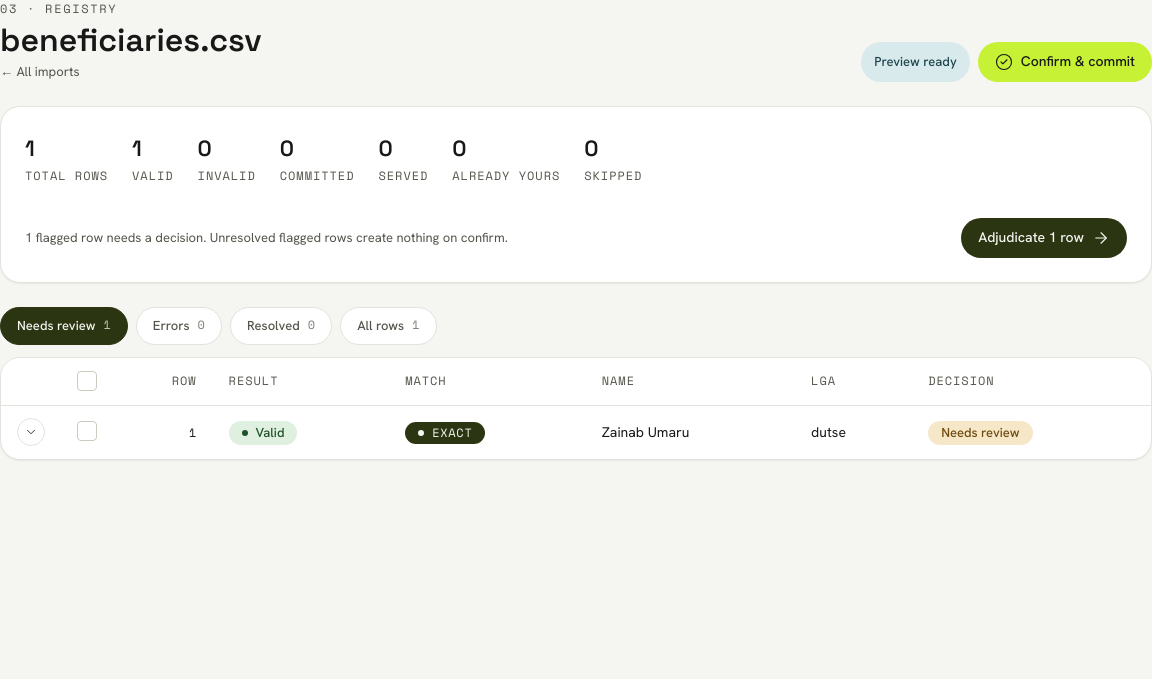
Scenario: ImportBatchPage — duplicate resolution › hides the same-person adjudication on exact matches but keeps discard/serve (§5.9)
Click the button named "expand zainab umaru": (31, 432) [17,418,45,446]
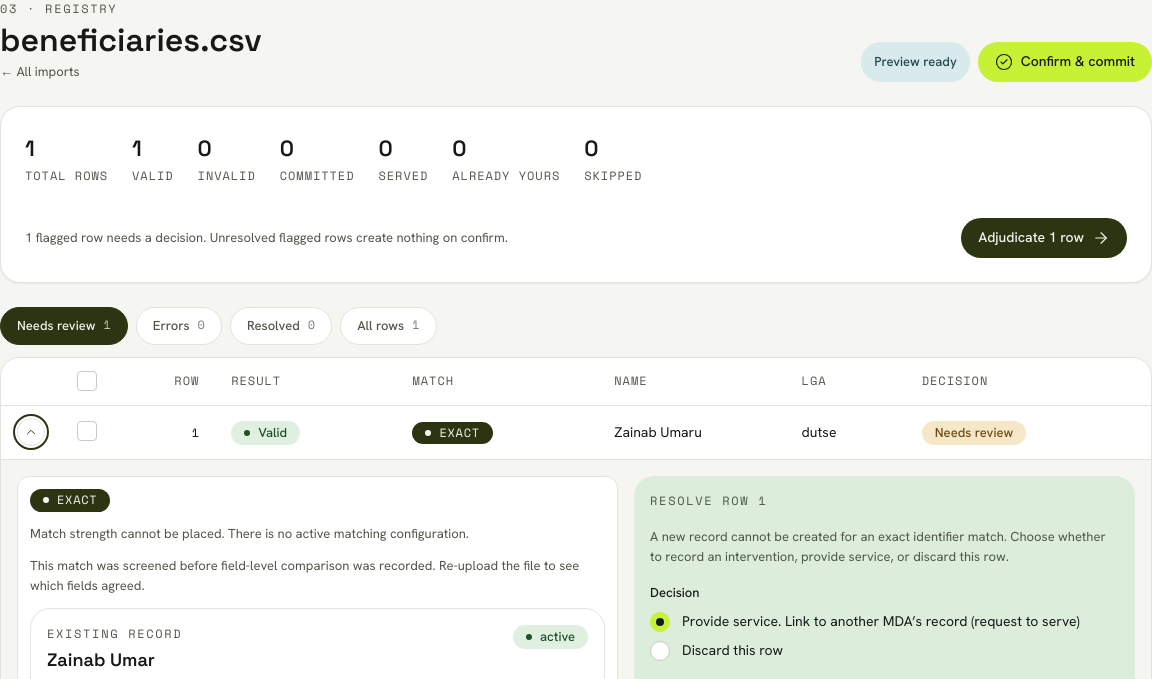
Expected: the radio button labelled "Provide service" is shown, [650,611,1119,632]
Expected: the radio button labelled "Discard this row" is shown, [650,641,783,661]
Expected: the text "A new record cannot be created for an exact identifier match" is shown, [650,528,1106,565]
